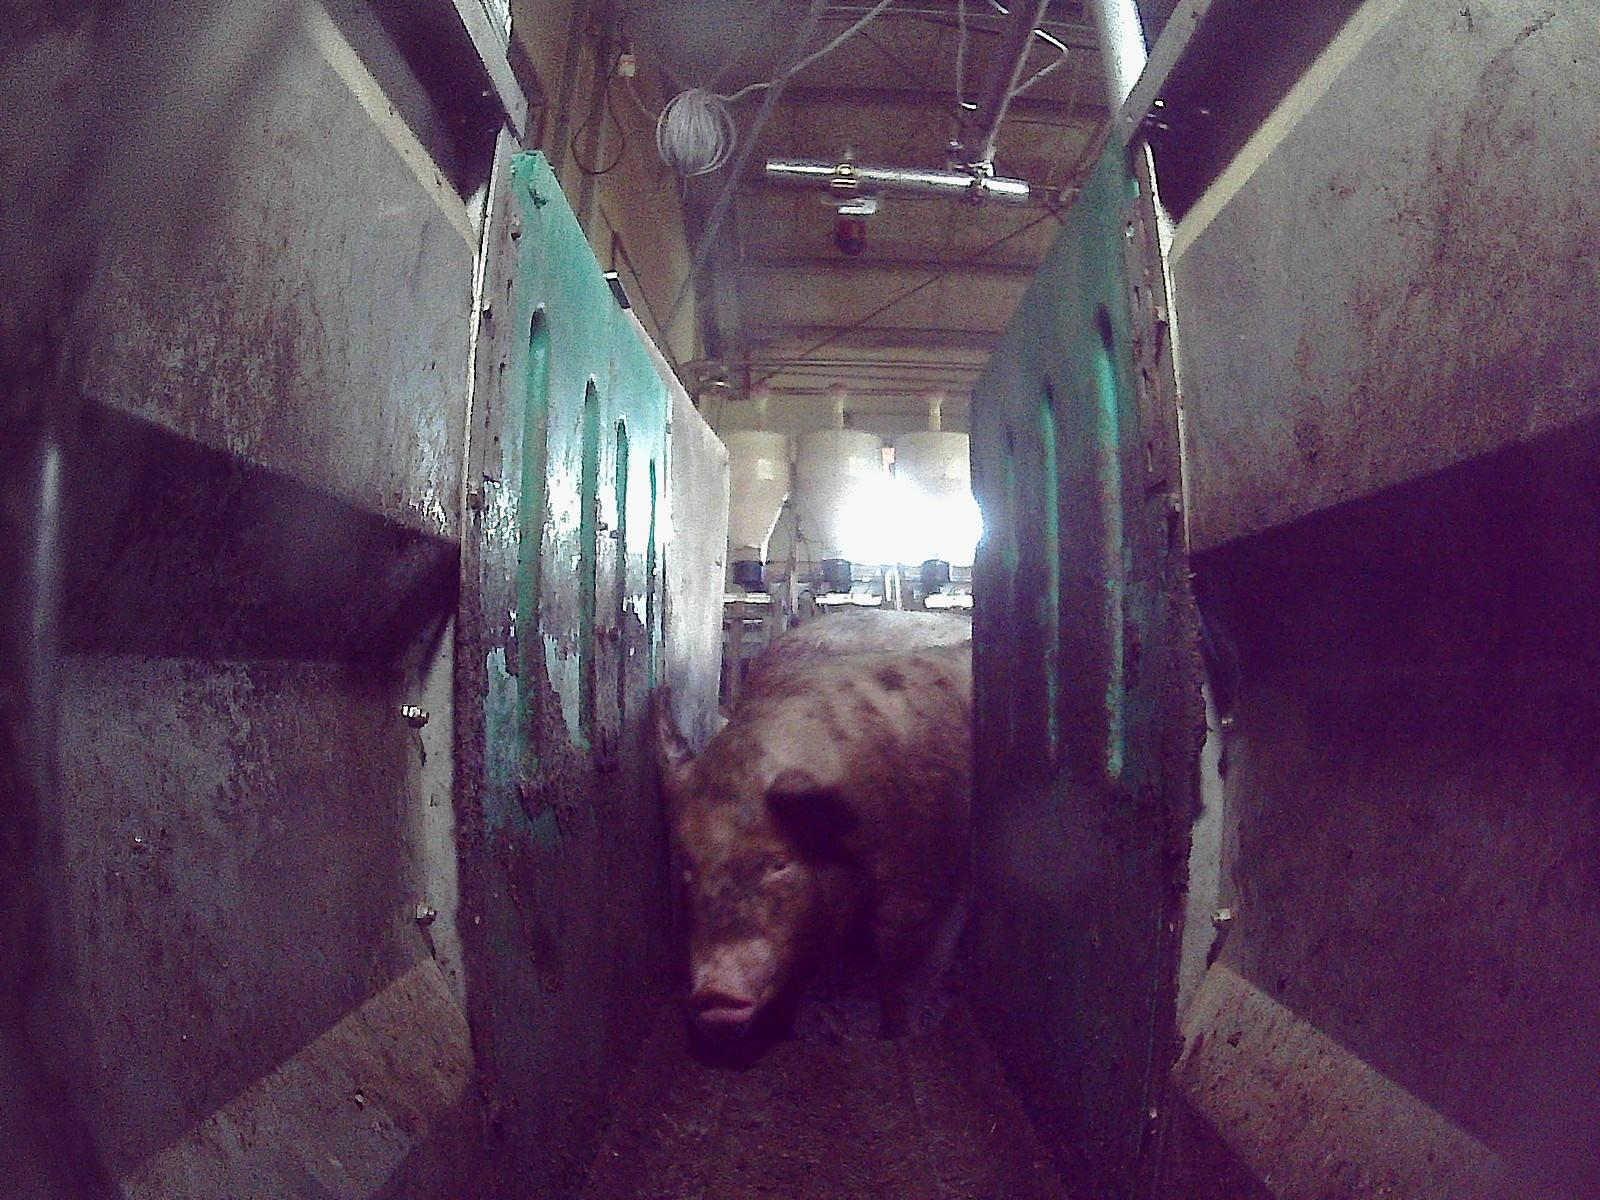Face: (665, 782, 832, 1022)
